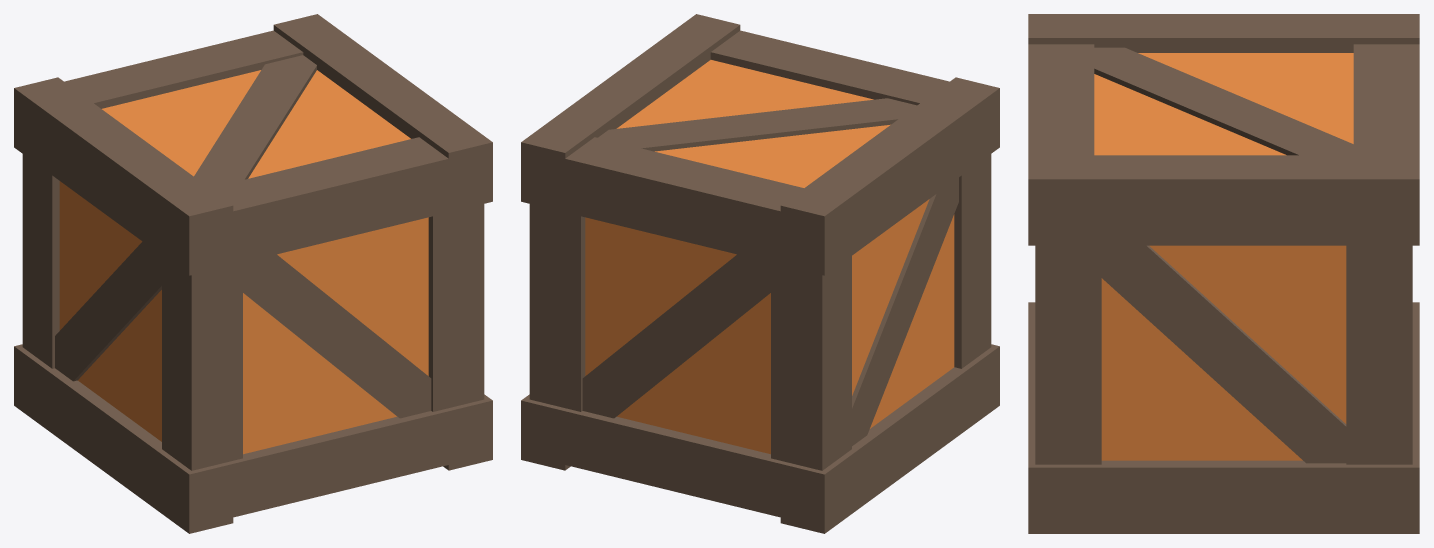
3 views of the same model, side by side, from view 1: azimuth 30°, elevation 25°; view 2: azimuth 150°, elevation 25°; view 3: azimuth 270°, elevation 25° (orthographic). The views are drawn at different scales.
Parts seen in each view (by area): view 1: Box_2; view 2: Box_2; view 3: Box_2.
Part boxes in pixels (x1,y1,x2,y2): Box_2: (14,14,492,533); Box_2: (521,14,999,533); Box_2: (1028,14,1419,533).
Size of the model in its own units: 78.04 by 78.04 by 78.04.
